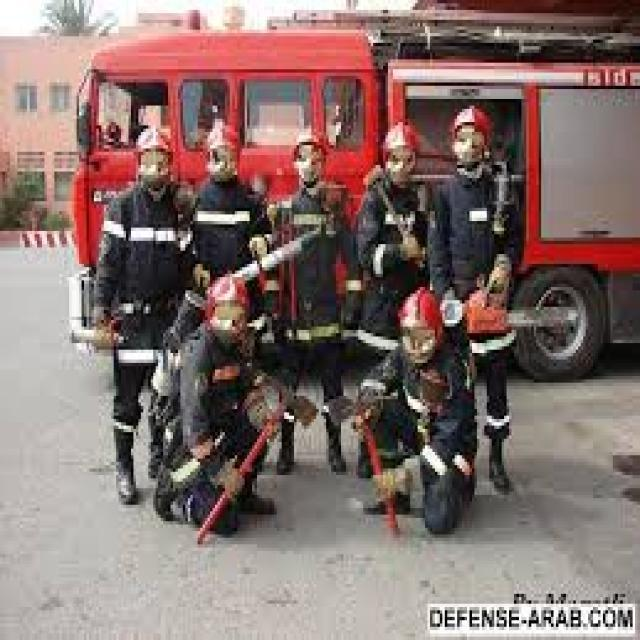emergency: (78, 32, 636, 360)
